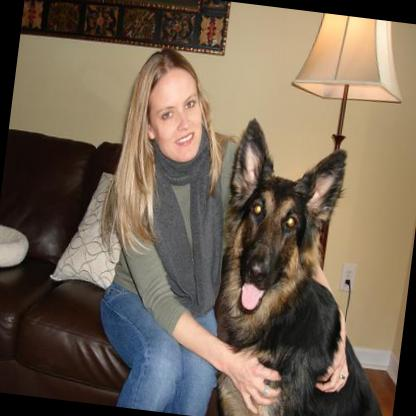German_shepherd: (197, 112, 416, 416)
